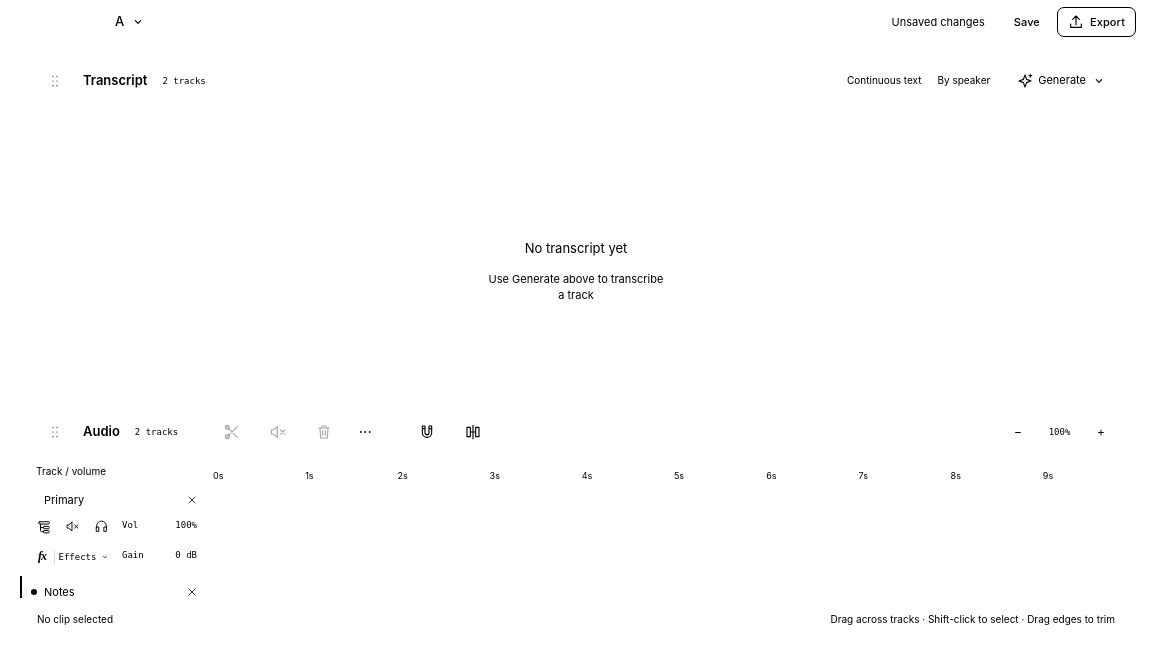
Scenario: App transcription job identity › shows the same sanitized current-session failure for Save button without clearing dirty
Click the button "Save" at (1027, 22), box x1=1003 y1=7 x2=1051 y2=37
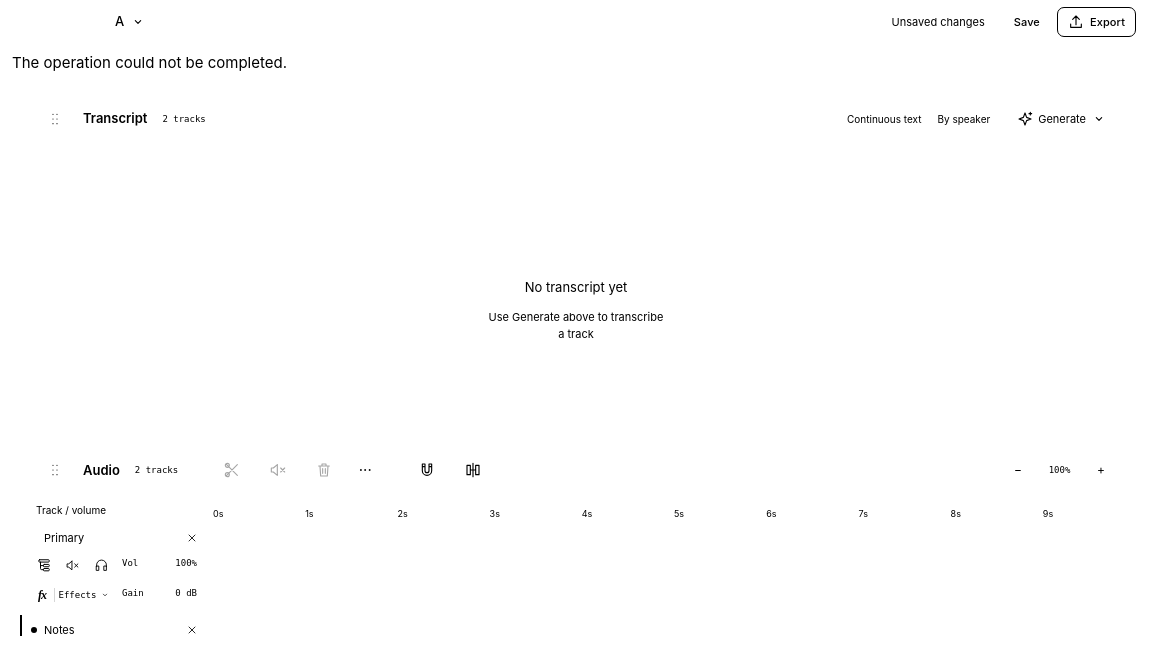
Check: the message "The operation could not be completed." is shown, box x1=12 y1=53 x2=287 y2=72
